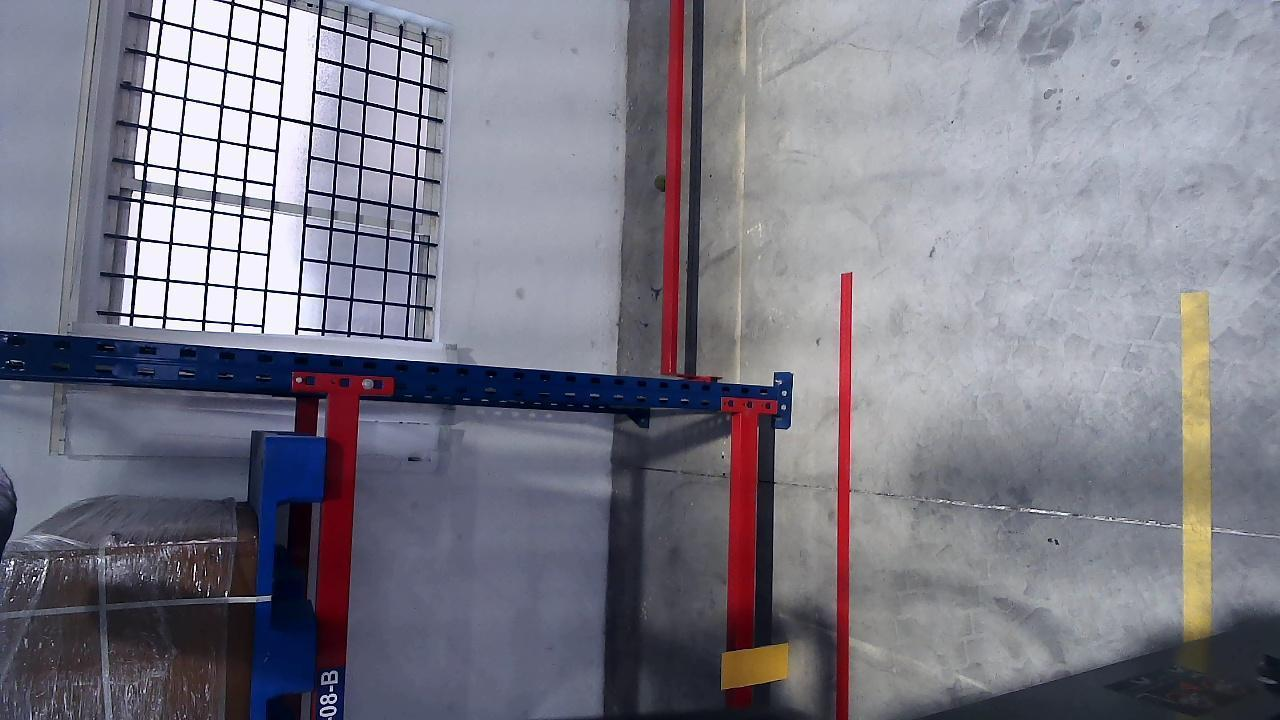red_line: (833, 271, 853, 717)
yellow_line: (1180, 298, 1213, 635)
